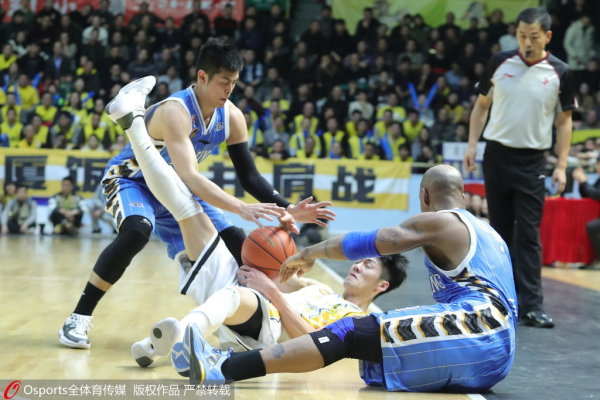fall: (139, 164, 524, 393)
